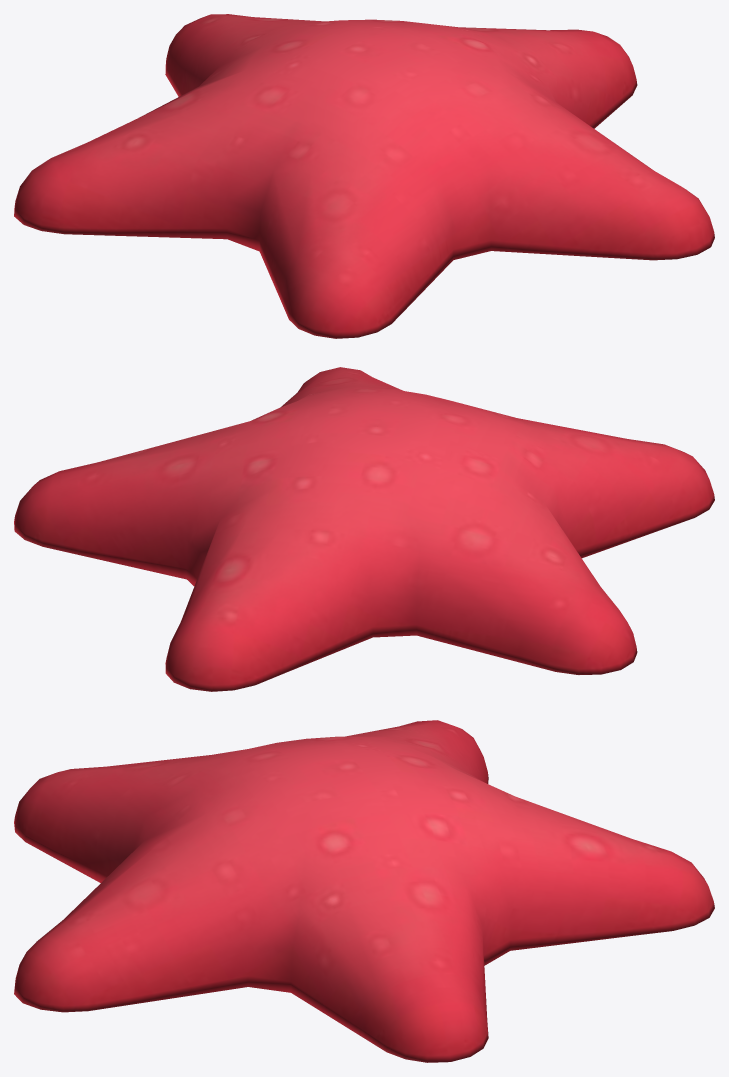
Rendered from starfish.glb.
The picture shows the model from 3 angles, top to bottom: view 1: azimuth 30°, elevation 25°; view 2: azimuth 150°, elevation 25°; view 3: azimuth 270°, elevation 25°; orthographic projection. The views are drawn at different scales.
Size of the model in its own units: 1 by 0.2065 by 0.9584.
Materials: 1 (1 with a texture image).
